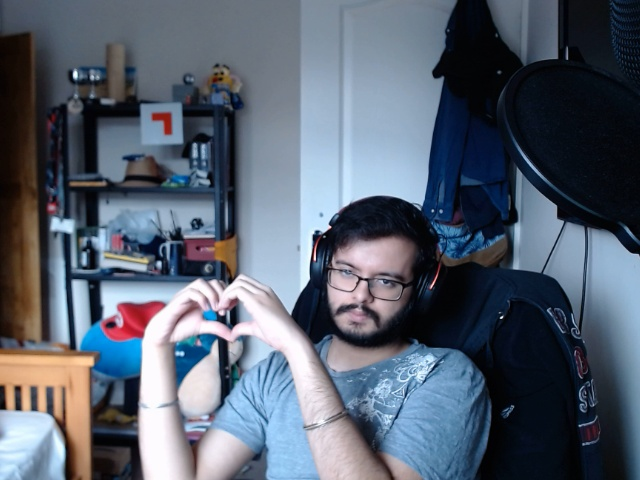Heart: (142, 269, 301, 350)
